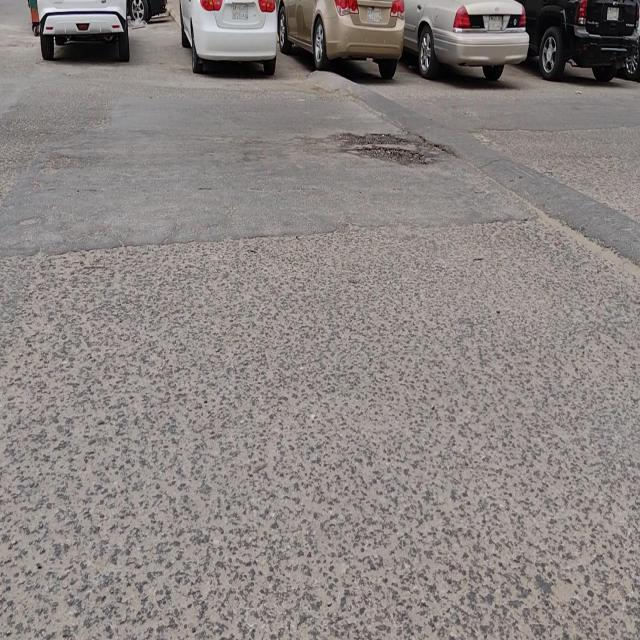Potholes: (336, 130, 437, 168)
